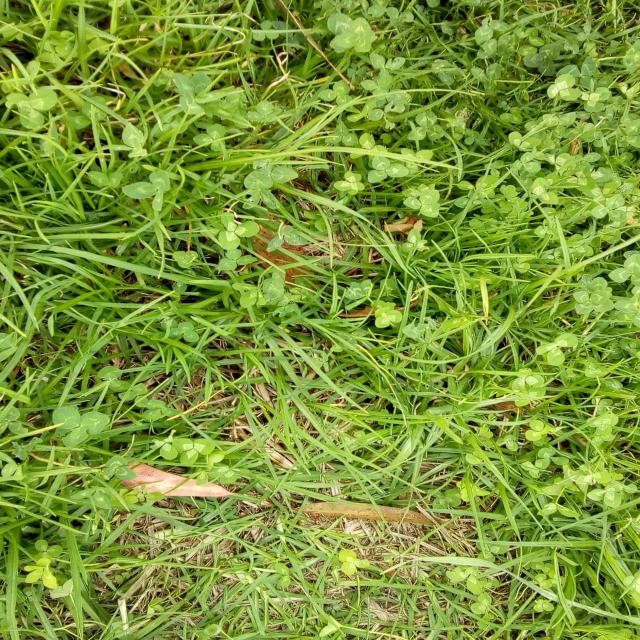Four Leaf Clover: (573, 290, 615, 315)
